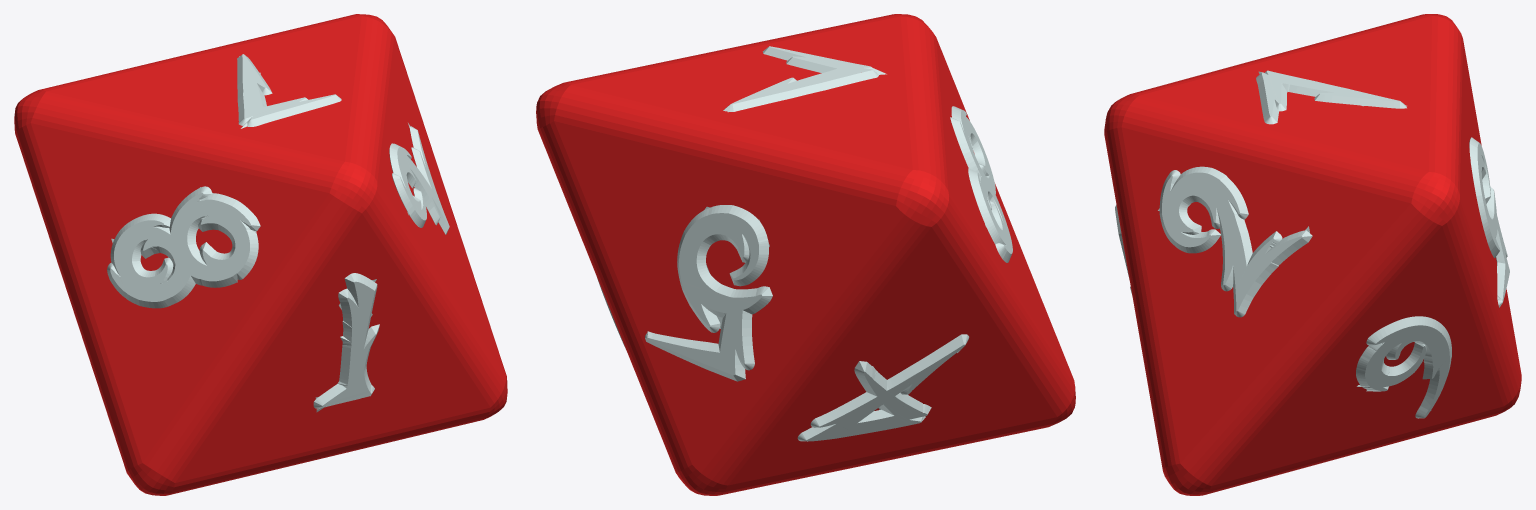
Rendered from D8_3D_Red.glb.
3 renders of one model, left to right at view 1: azimuth 30°, elevation 25°; view 2: azimuth 150°, elevation 25°; view 3: azimuth 270°, elevation 25°, orthographic. The views are drawn at different scales.
Parts seen in each view (by area): view 1: d8; view 2: d8; view 3: d8.
Boxes of the visible parts, left/top/right/bottom form: d8: left=14, top=14, right=507, bottom=495; d8: left=536, top=14, right=1075, bottom=495; d8: left=1104, top=14, right=1521, bottom=495.
Size of the model in its own units: 1.64 by 1.37 by 1.56.
